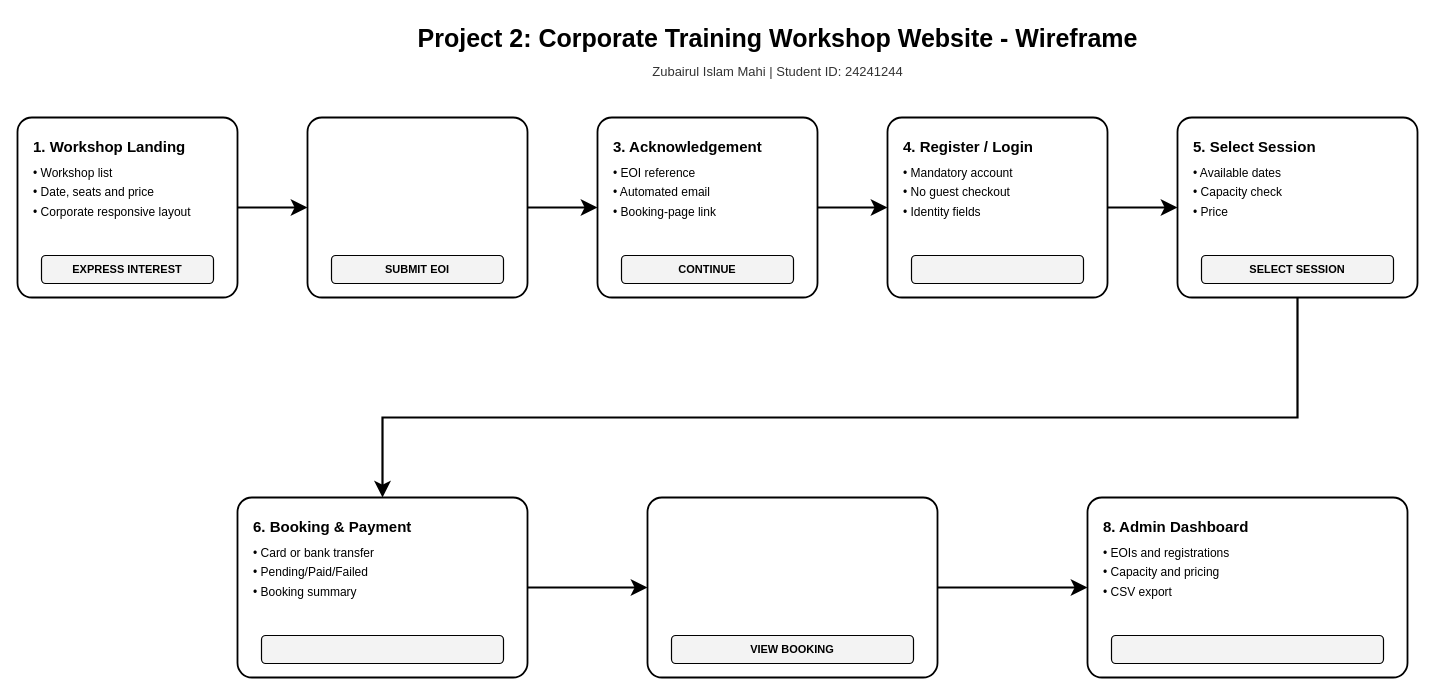
Some shapes in this 1445 by 695 pixel diagram are drawn without their labels. The box of each missing label's shape, as (x1, y1, x2, y2) in pixels:
2. EOI Form • Name and company • Email and phone • Role and message: (306, 116, 528, 298)
7. Confirmation • Booking reference • Workshop date and venue • Receipt email: (646, 496, 938, 678)
PAY / SUBMIT: (260, 634, 504, 664)
REGISTER / LOGIN: (910, 254, 1084, 284)
SAVE / EXPORT: (1110, 634, 1384, 664)
